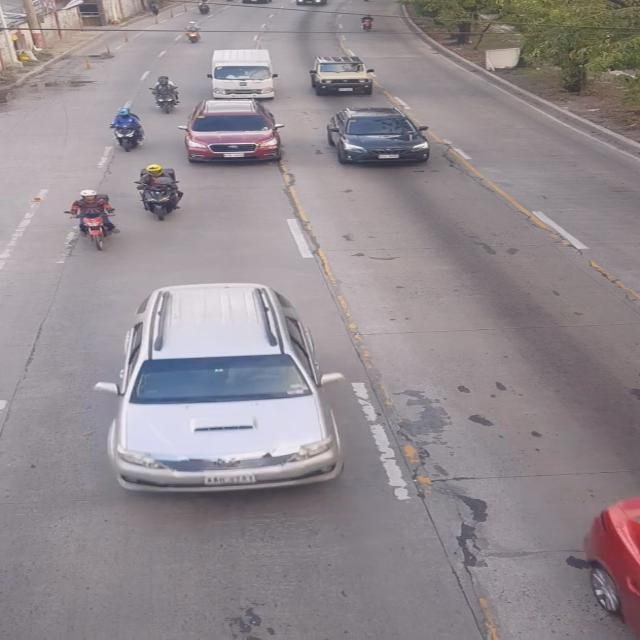car: (116, 280, 346, 498), (579, 493, 640, 640), (183, 96, 281, 164), (327, 106, 430, 169), (309, 55, 377, 94)
motorbike: (140, 162, 185, 224), (77, 189, 114, 253), (114, 102, 144, 151), (154, 75, 182, 116)
truck: (207, 50, 278, 100)
